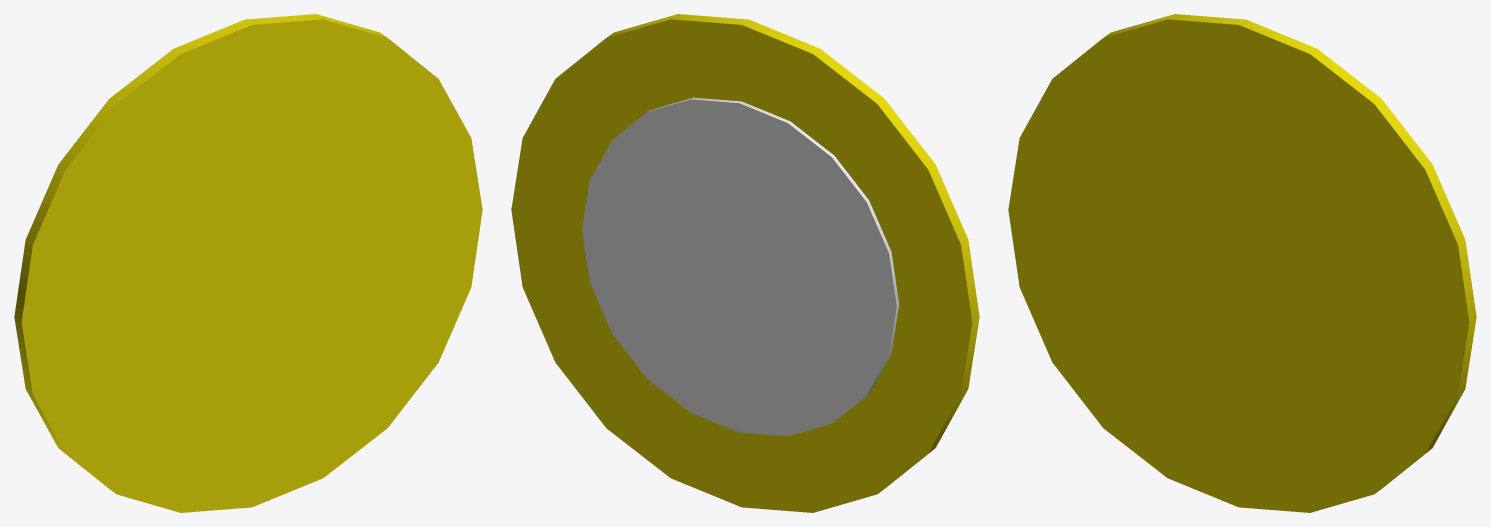
File: target2.fbx
3 renders of one model, left to right at view 1: azimuth 30°, elevation 25°; view 2: azimuth 150°, elevation 25°; view 3: azimuth 330°, elevation 25°, orthographic.
Parts seen in each view (by area): view 1: pCylinder2; view 2: pCylinder2, pCylinder1; view 3: pCylinder2.
Part boxes in pixels (x1=…): pCylinder2: x1=14, y1=14, x2=482, y2=512; pCylinder2: x1=511, y1=14, x2=979, y2=512; pCylinder1: x1=582, y1=97, x2=899, y2=436; pCylinder2: x1=1008, y1=14, x2=1476, y2=512.
Bounding box in the file's own units: 21.59 × 21.59 × 0.7863.
